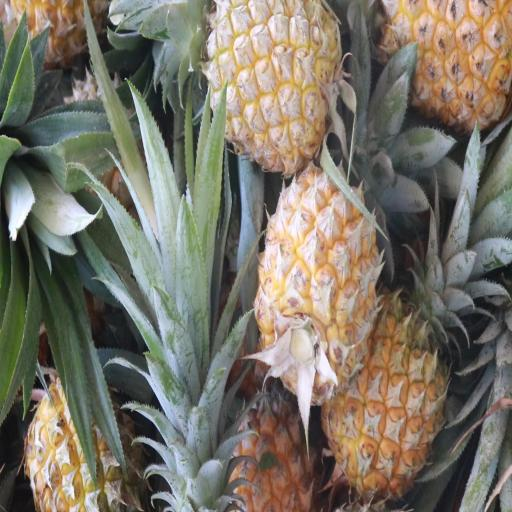------------------------------: (27, 376, 150, 512)
Pineapple - v8 v1: (260, 171, 378, 402), (322, 292, 442, 492), (199, 2, 339, 172), (375, 0, 510, 130), (214, 387, 324, 512)
